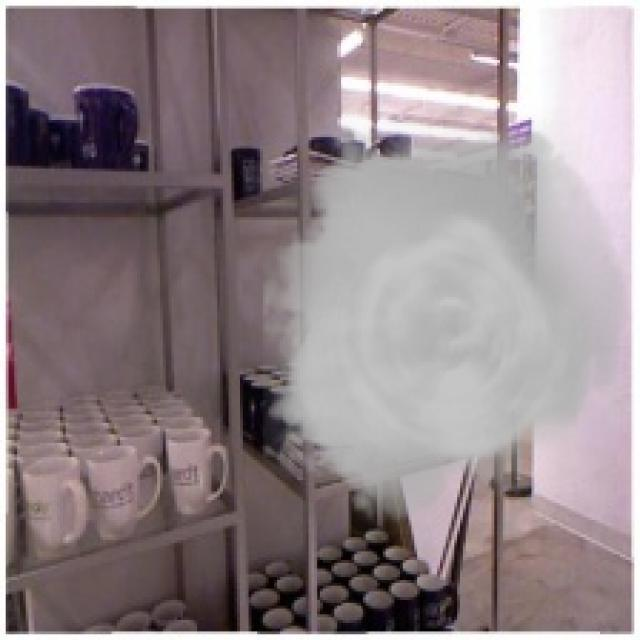Smoke: (262, 108, 628, 534)
